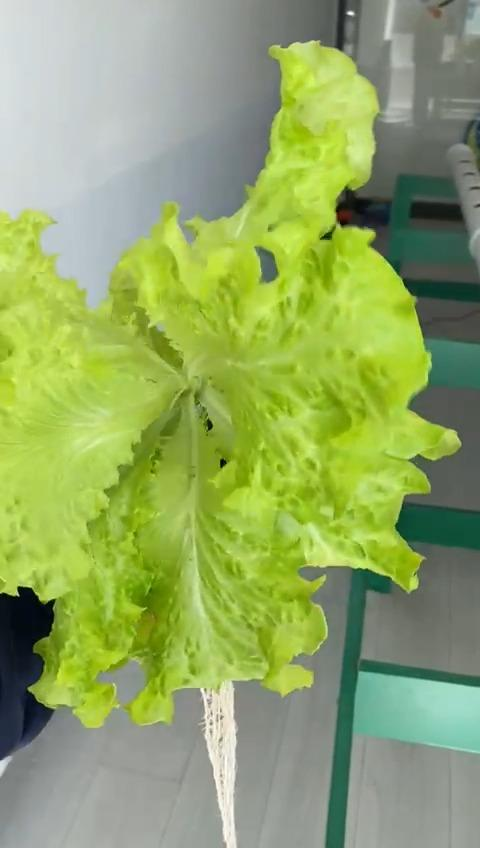Healthy Lettuce: (0, 39, 461, 726)
